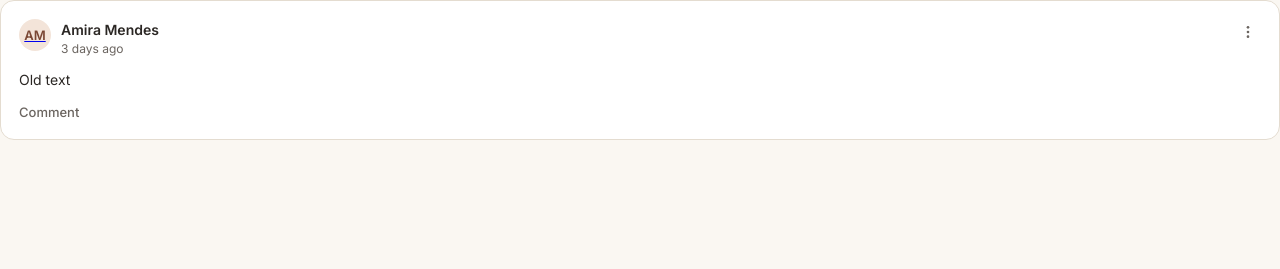
Test case: PostCard › puts the old text back and shows the API message when an edit is refused (403)
The image size is (1280, 269).
Click the button named "Post actions".
click(1248, 32)  # box [1235,19,1261,45]
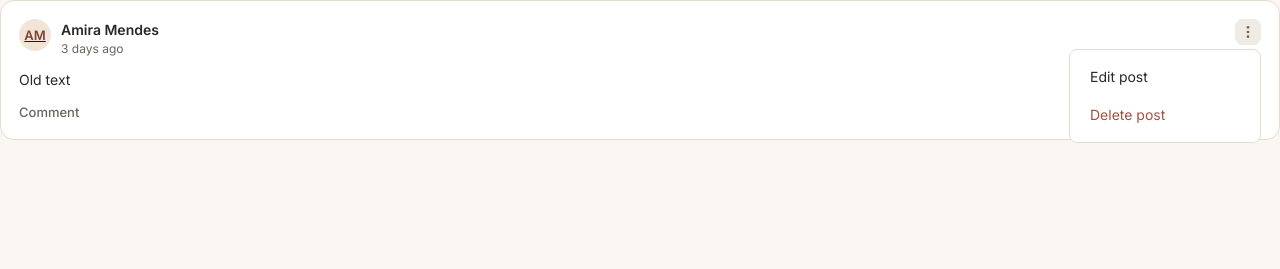
Click the menu item "Edit post".
click(1119, 76)  # box [1090,68,1148,85]
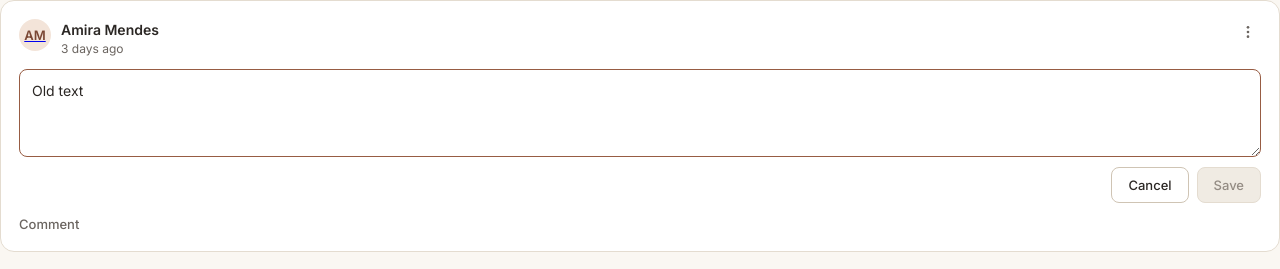
Replace the text in the text box named "Edit post" with "Changed" at point(640, 113), box [19,69,1261,157]
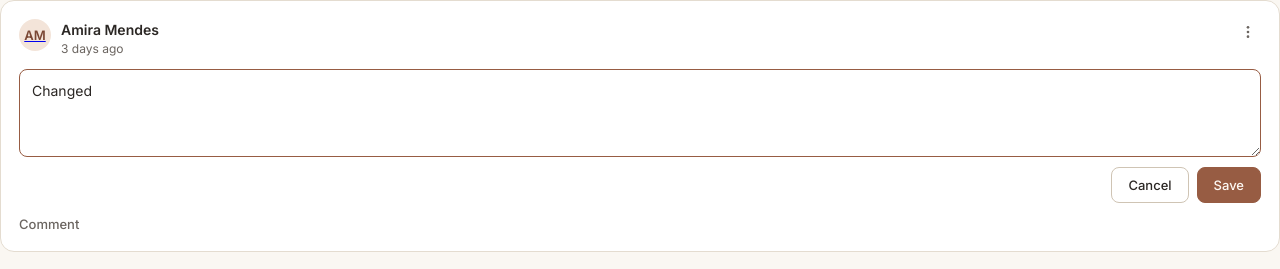
Click the button "Save".
click(1229, 185)  # box [1196,167,1261,203]
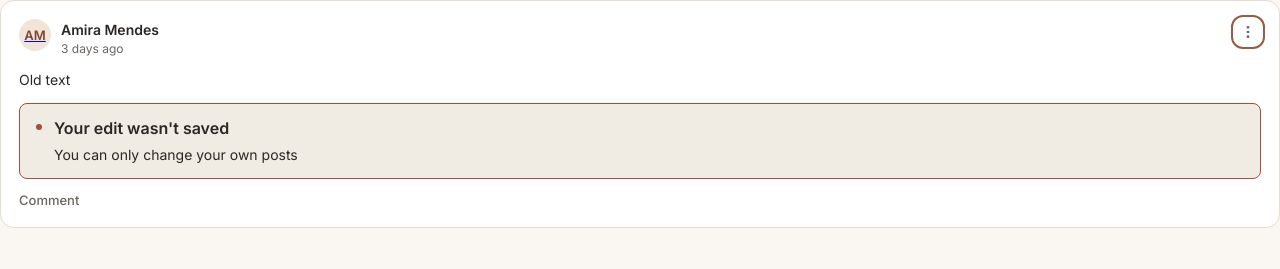
Expected: the text "You can only change your own posts" is shown, [54,146,298,163]
Expected: the text "Old text" is shown, [19,71,70,88]
